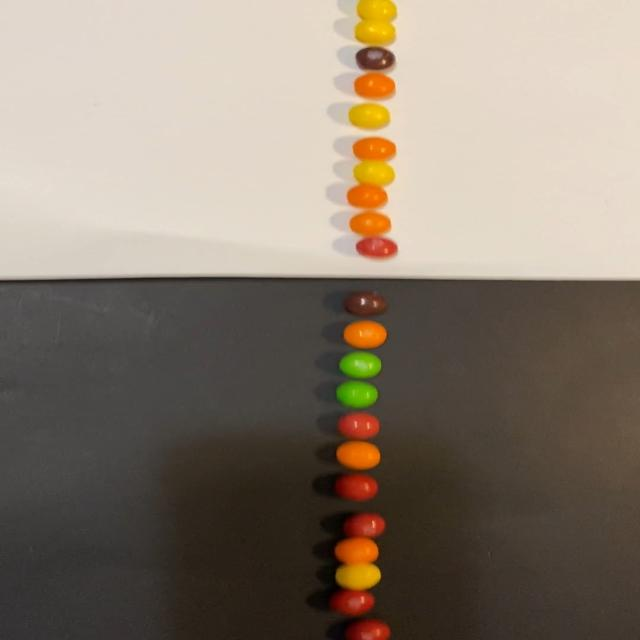smartie: (337, 441, 380, 471), (335, 564, 381, 592), (338, 351, 381, 380), (335, 380, 377, 409), (329, 590, 374, 617), (343, 321, 386, 349), (334, 474, 377, 502), (334, 538, 378, 565), (337, 413, 379, 441), (353, 72, 395, 98), (344, 291, 387, 316), (348, 102, 389, 128), (353, 160, 395, 185), (349, 211, 391, 236), (343, 514, 385, 539), (354, 19, 395, 44), (346, 183, 386, 208), (352, 137, 395, 160), (344, 620, 391, 640), (355, 46, 394, 69), (356, 237, 398, 258), (356, 0, 396, 20)
